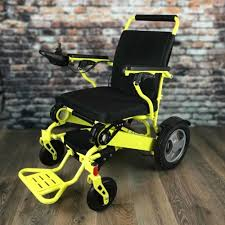wheelchair: (24, 31, 189, 210)
